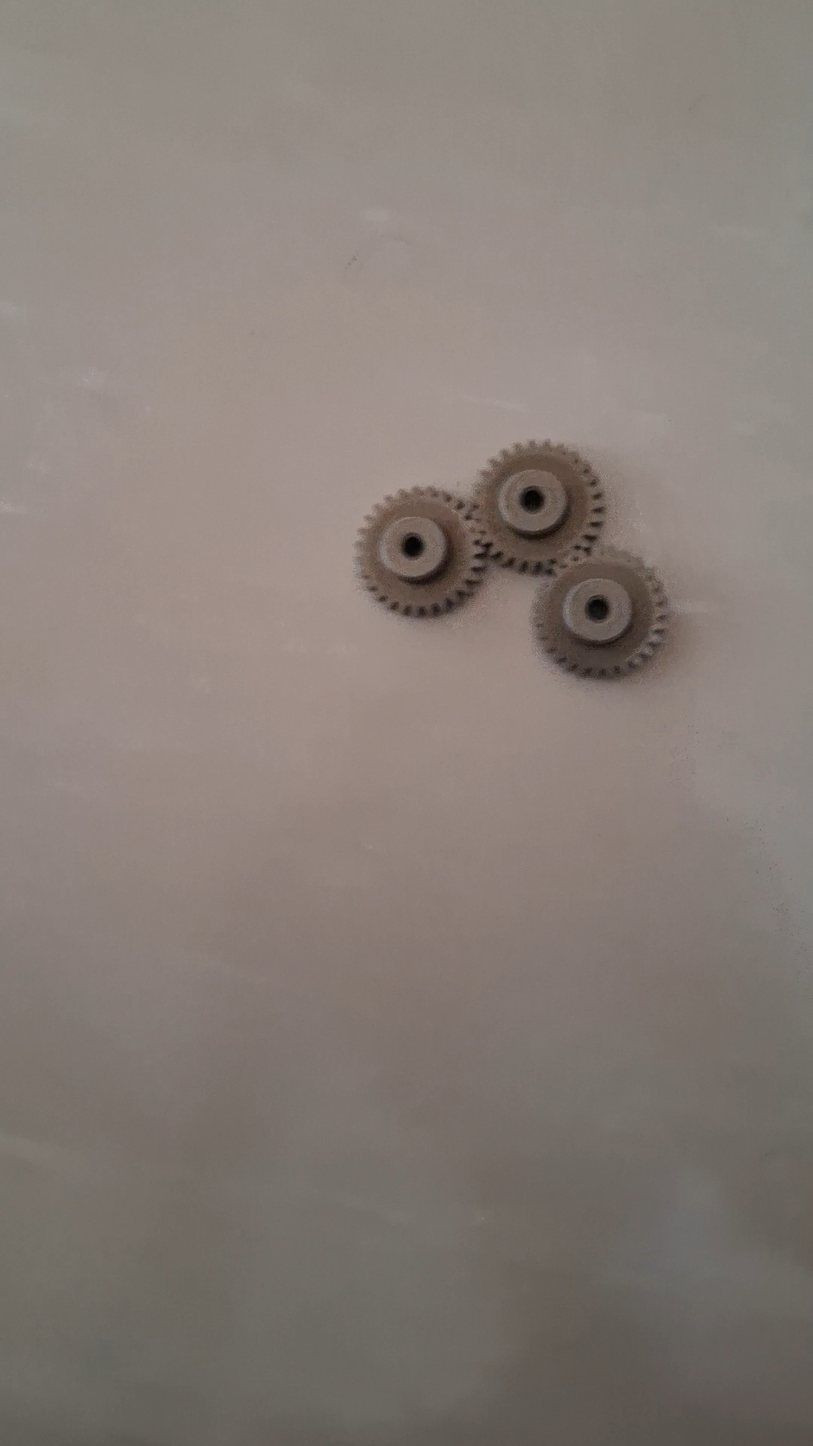spur gear: (532, 548, 668, 677), (475, 441, 604, 573), (356, 488, 487, 616)
